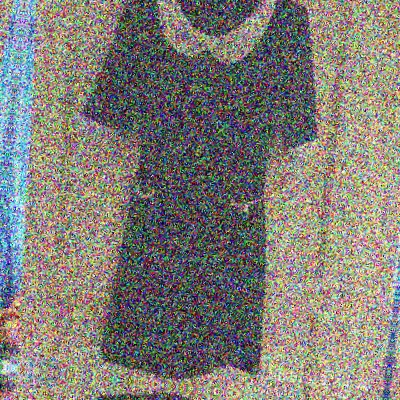Dress: (42, 0, 355, 396), (0, 378, 309, 400)
